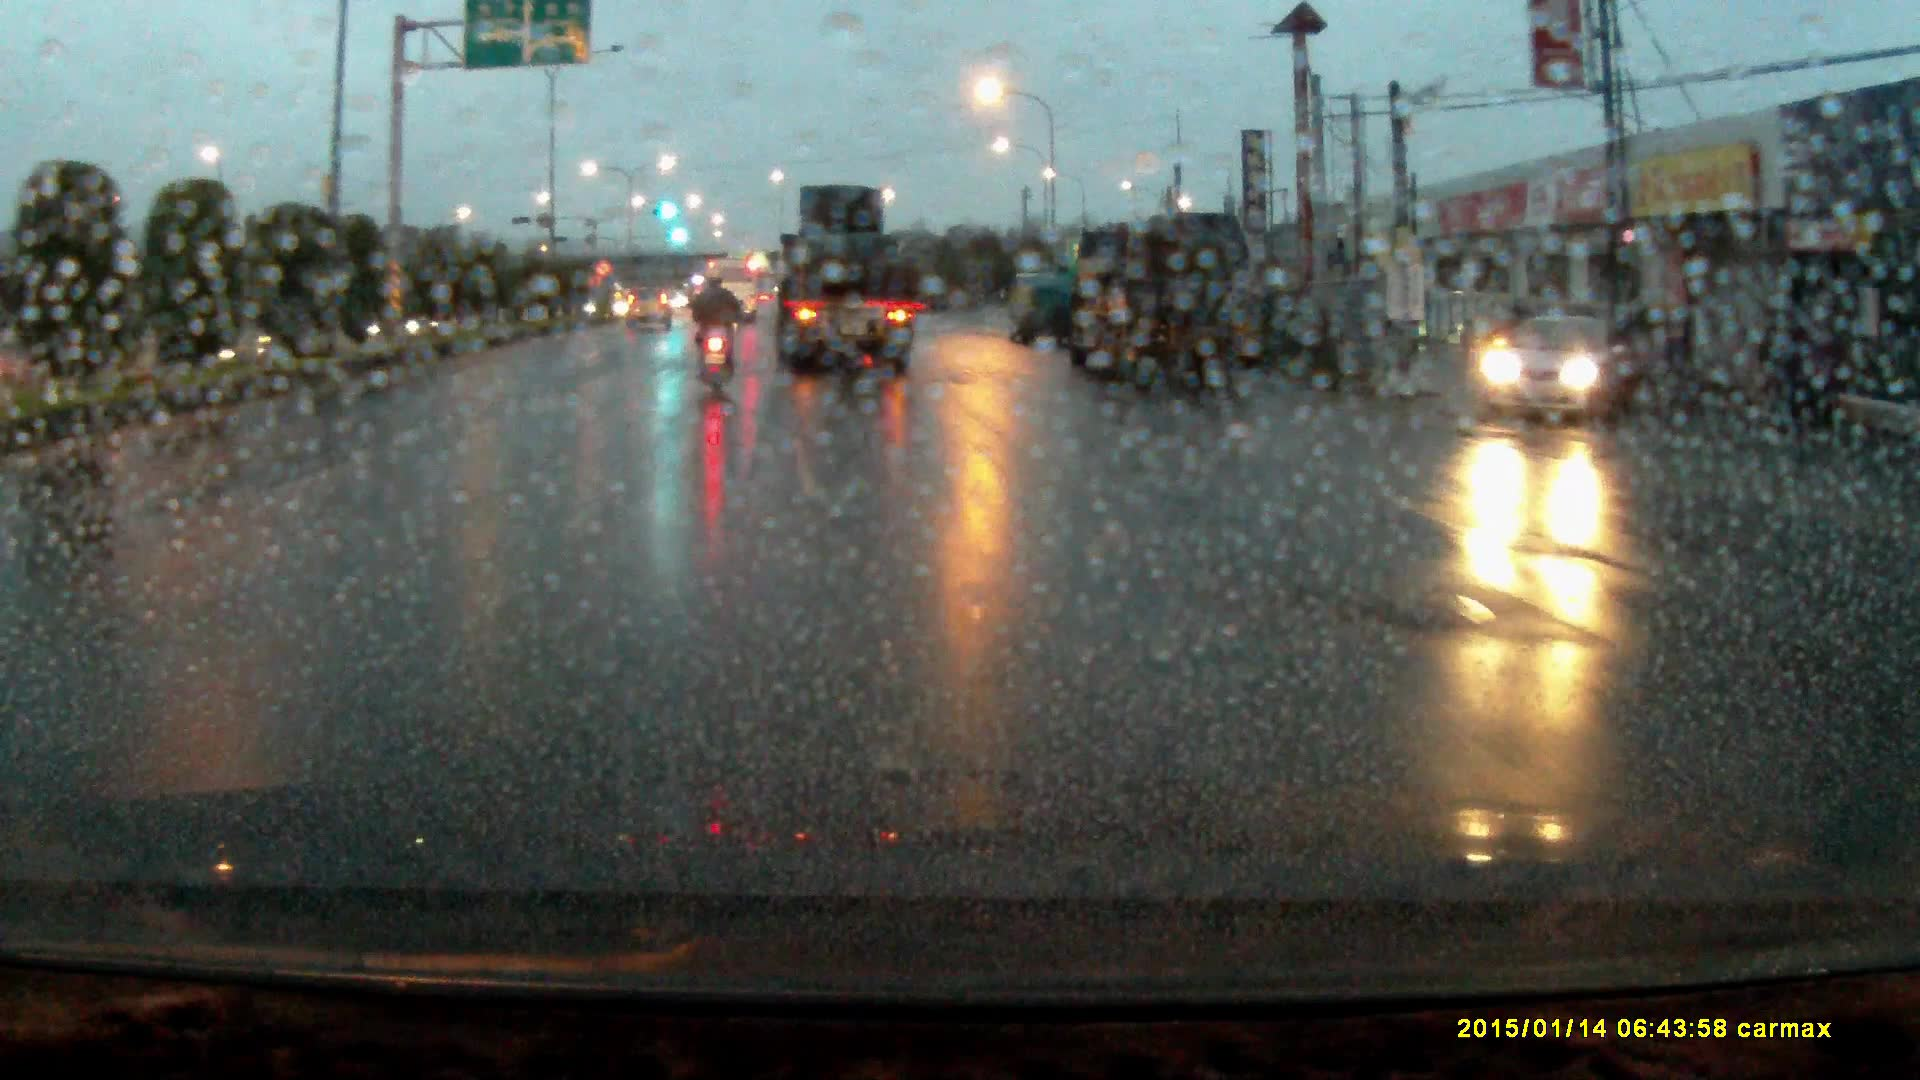rider: (688, 270, 746, 399)
vehicle: (1067, 210, 1253, 398), (777, 191, 915, 380), (1472, 308, 1664, 423), (1006, 272, 1080, 348), (707, 259, 756, 324), (623, 289, 673, 335)
